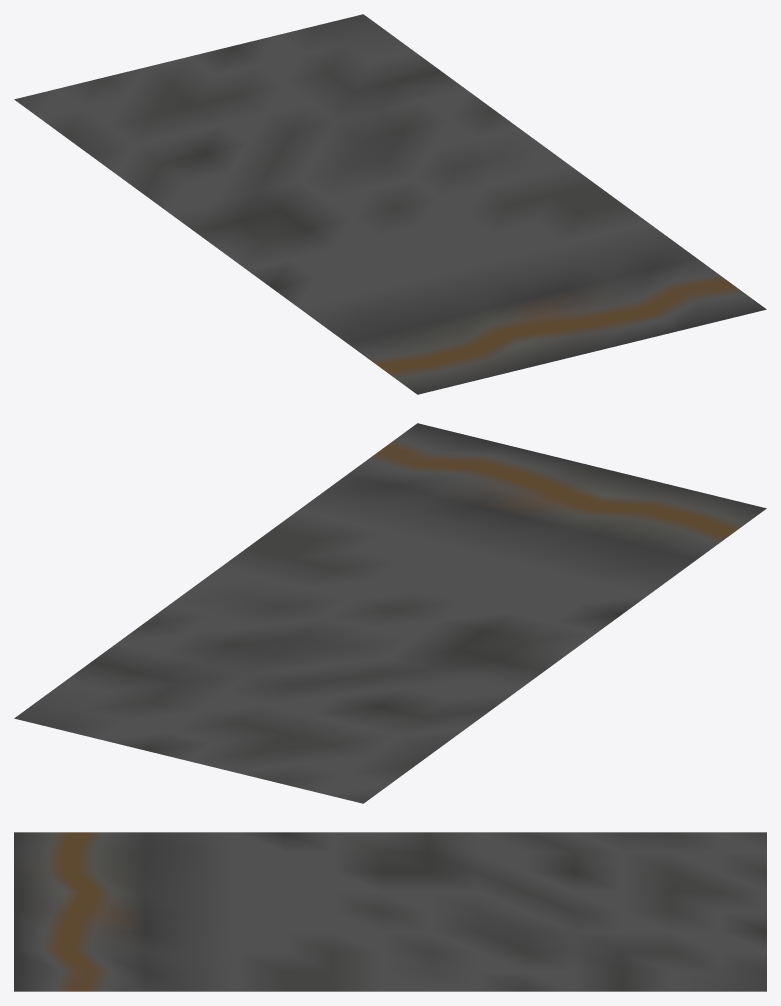
The model's file is Ground.glb.
The picture shows the model from 3 angles, top to bottom: view 1: azimuth 30°, elevation 25°; view 2: azimuth 150°, elevation 25°; view 3: azimuth 270°, elevation 25°; orthographic projection. The views are drawn at different scales.
Parts seen in each view (by area): view 1: Ground; view 2: Ground; view 3: Ground.
Boxes of the visible parts, x1,y1,x2,y2 form: Ground: [14, 14, 766, 394]; Ground: [14, 423, 766, 803]; Ground: [14, 832, 766, 991].
Size of the model in its own units: 10 by 0 by 20.
